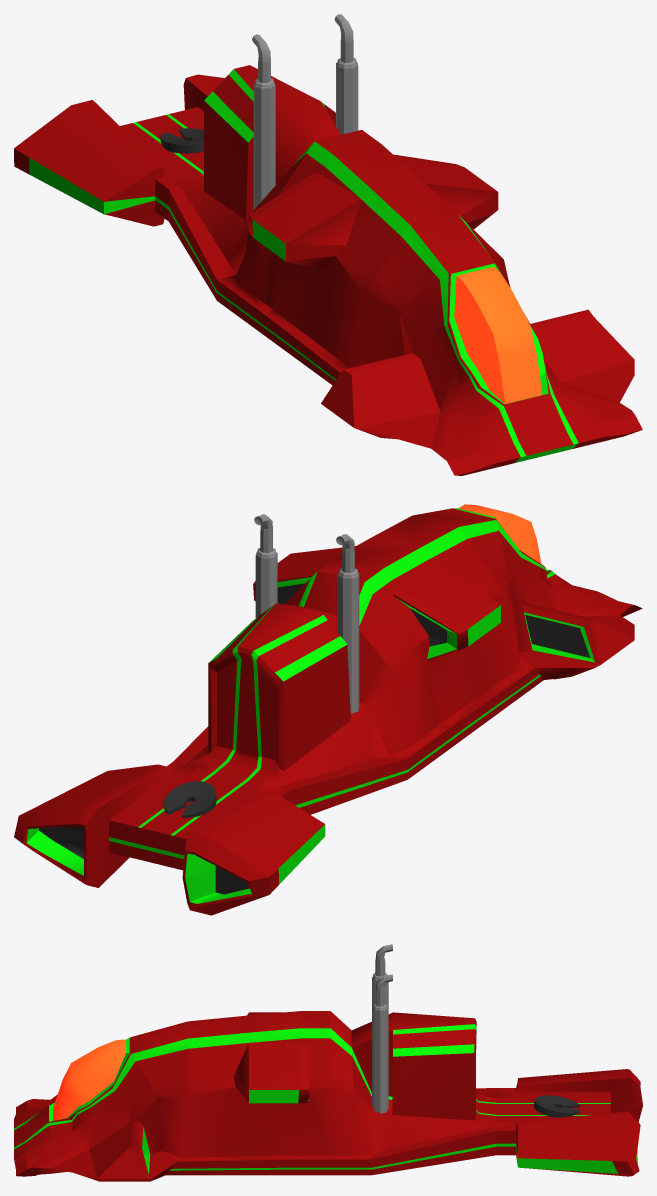
Rendered from truckV0.0.03.fbx.
3 views of the same model, one above another, from view 1: azimuth 30°, elevation 25°; view 2: azimuth 150°, elevation 25°; view 3: azimuth 270°, elevation 25° (orthographic). The views are drawn at different scales.
Visible parts, largest first — view 1: polySurface6; view 2: polySurface6; view 3: polySurface6.
Boxes of the visible parts, box(x1,y1,x2,y2) form: polySurface6: box(14, 14, 642, 475); polySurface6: box(14, 504, 642, 915); polySurface6: box(14, 944, 642, 1181).
Bounding box in the file's own units: 232 × 206 × 602.
